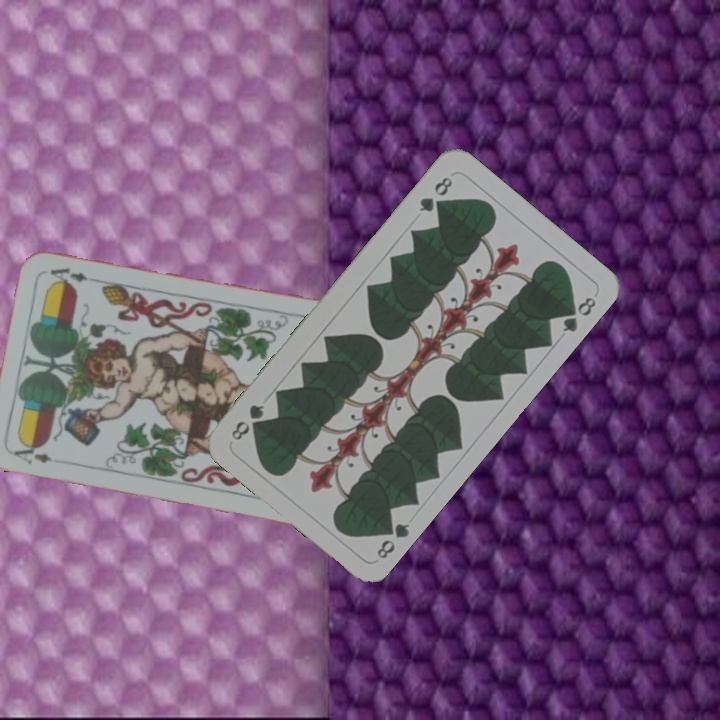EA: (10, 438, 55, 467)
G8: (372, 516, 413, 562), (415, 172, 456, 215)
